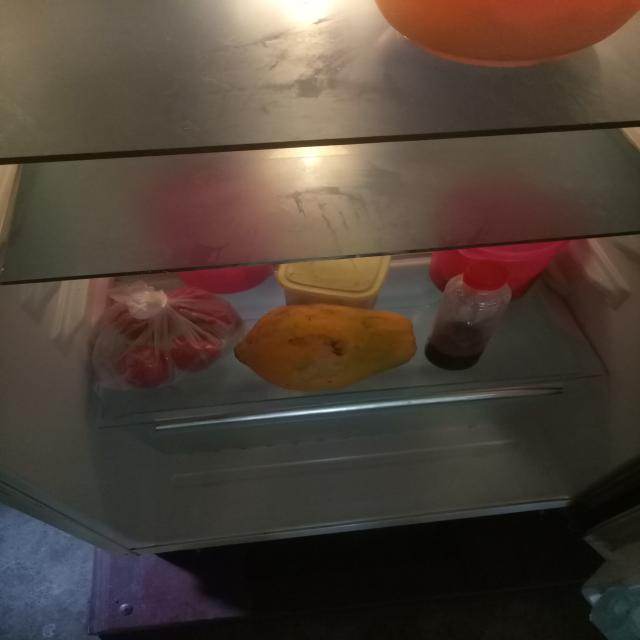Pepaya rippen: (229, 305, 422, 396)
